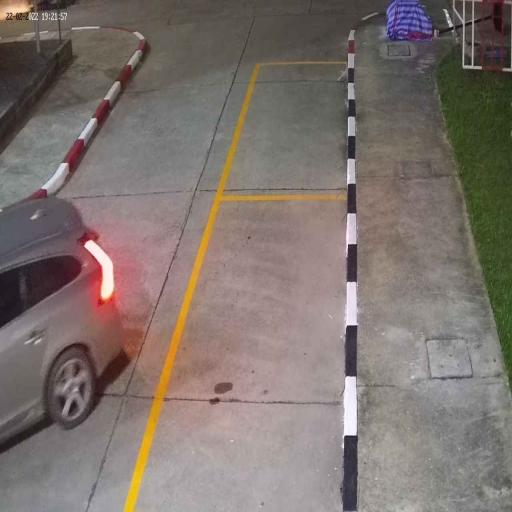car: (0, 194, 125, 447)
